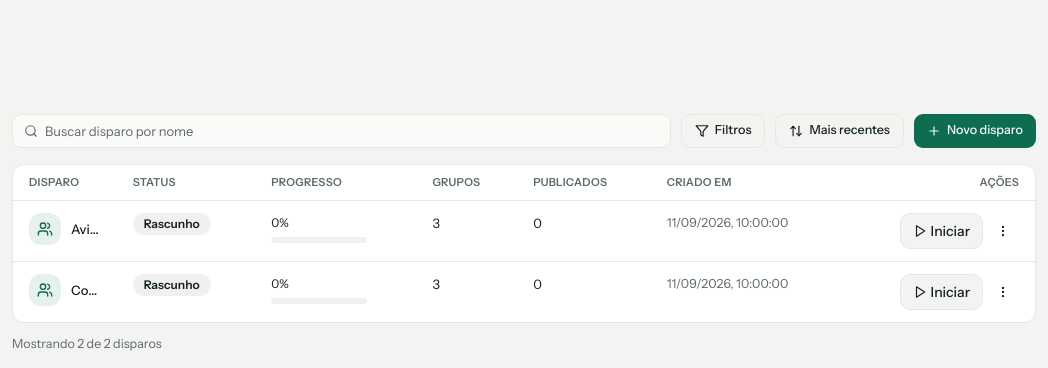
Scenario: GroupBroadcastsPanel — anatomia compartilhada › busca filtra a lista pelo nome
Expected: the text "Aviso de promoção" is shown, [71,219,101,239]
Type "convite" into the field labelled "Buscar disparo por nome" at (341, 130), box [12,114,671,148]
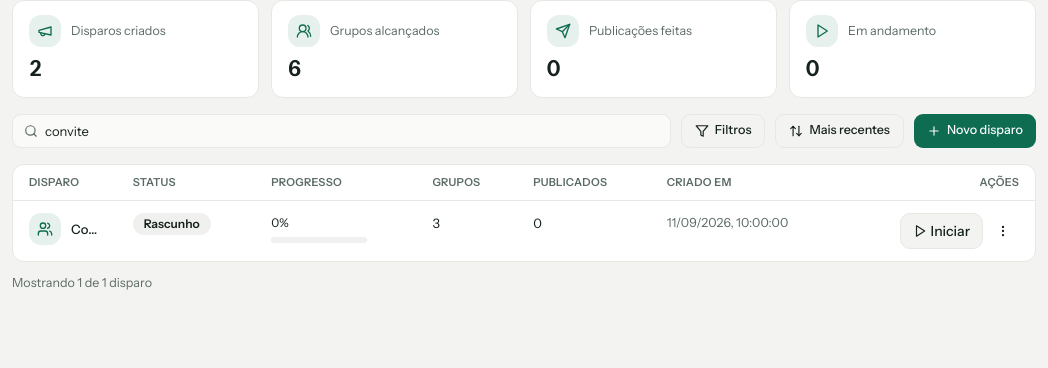
Expected: the text "Convite do evento" is shown, [71,219,101,239]
Expected: the text "Aviso de promoção" is gone
